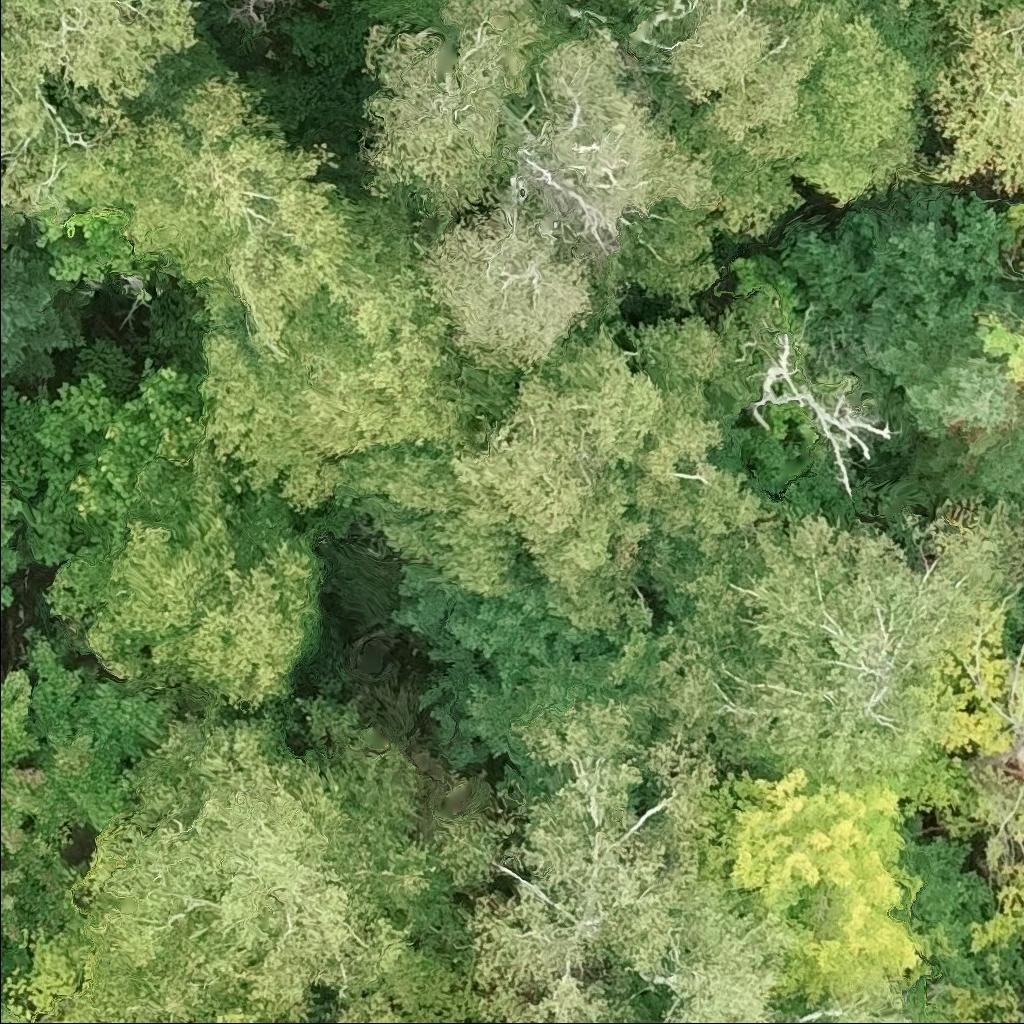crown: (335, 316, 795, 600), (51, 711, 462, 1023), (195, 199, 524, 515), (648, 509, 1015, 788), (434, 691, 723, 1023), (43, 450, 327, 717), (115, 69, 363, 357), (0, 628, 186, 985), (729, 764, 962, 1015), (353, 0, 560, 237), (0, 336, 202, 568), (623, 868, 917, 1023), (0, 0, 201, 222), (857, 280, 1023, 513), (530, 33, 723, 216), (404, 197, 601, 374), (785, 0, 943, 206), (656, 0, 834, 162), (747, 330, 894, 499), (923, 0, 1023, 204), (0, 244, 93, 397), (713, 153, 809, 241), (0, 473, 26, 621), (975, 310, 1023, 382), (217, 0, 278, 29), (898, 0, 1021, 12), (204, 1007, 286, 1023), (334, 1010, 430, 1023), (0, 1001, 23, 1023), (551, 0, 608, 6), (48, 1017, 86, 1023), (613, 0, 657, 4)
